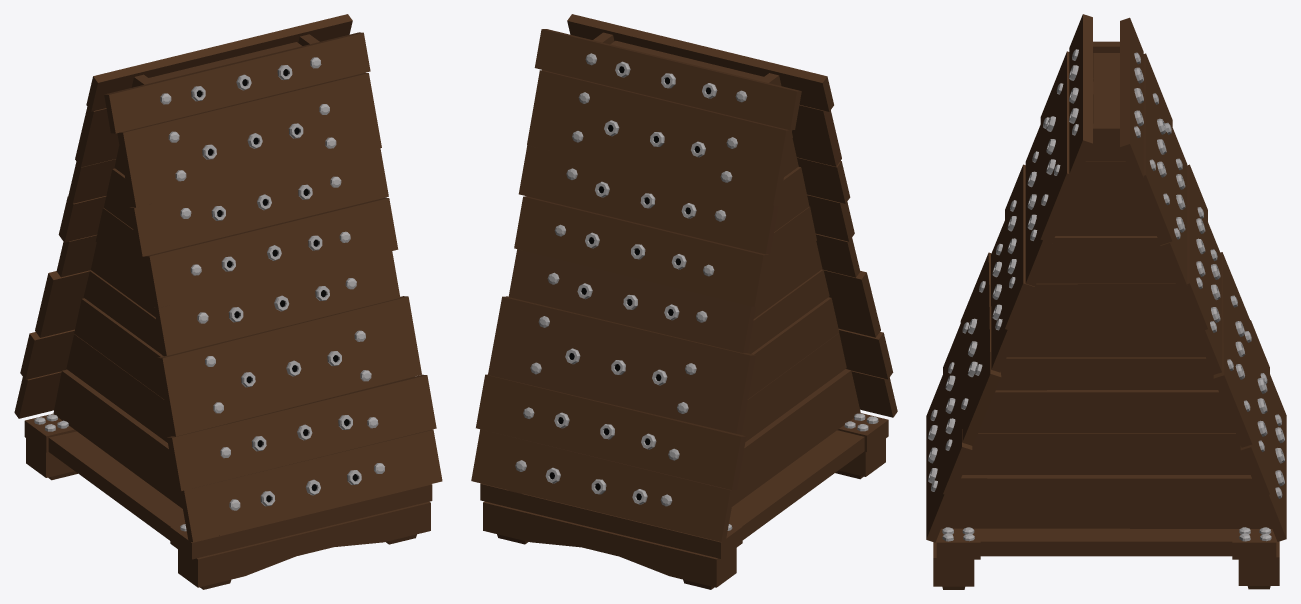
Rendered from FireworkStand.fbx.
The picture shows the model from 3 angles, left to right: view 1: azimuth 30°, elevation 25°; view 2: azimuth 150°, elevation 25°; view 3: azimuth 270°, elevation 25°; orthographic projection.
Parts seen in each view (by area): view 1: FireworkStand; view 2: FireworkStand; view 3: FireworkStand.
Part boxes in pixels (bbox=[...]): FireworkStand: bbox=[14, 14, 442, 589]; FireworkStand: bbox=[471, 14, 897, 589]; FireworkStand: bbox=[926, 14, 1286, 589].
Size of the model in its own units: 72.16 by 119 by 84.58.
